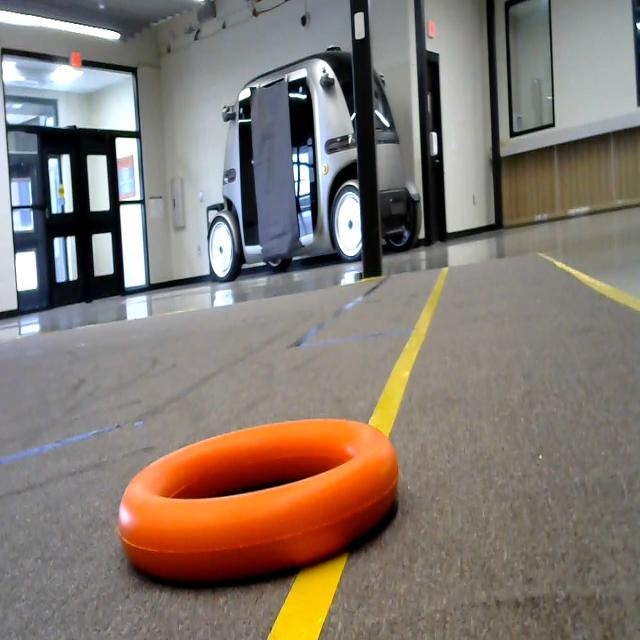note: (112, 423, 416, 570)
